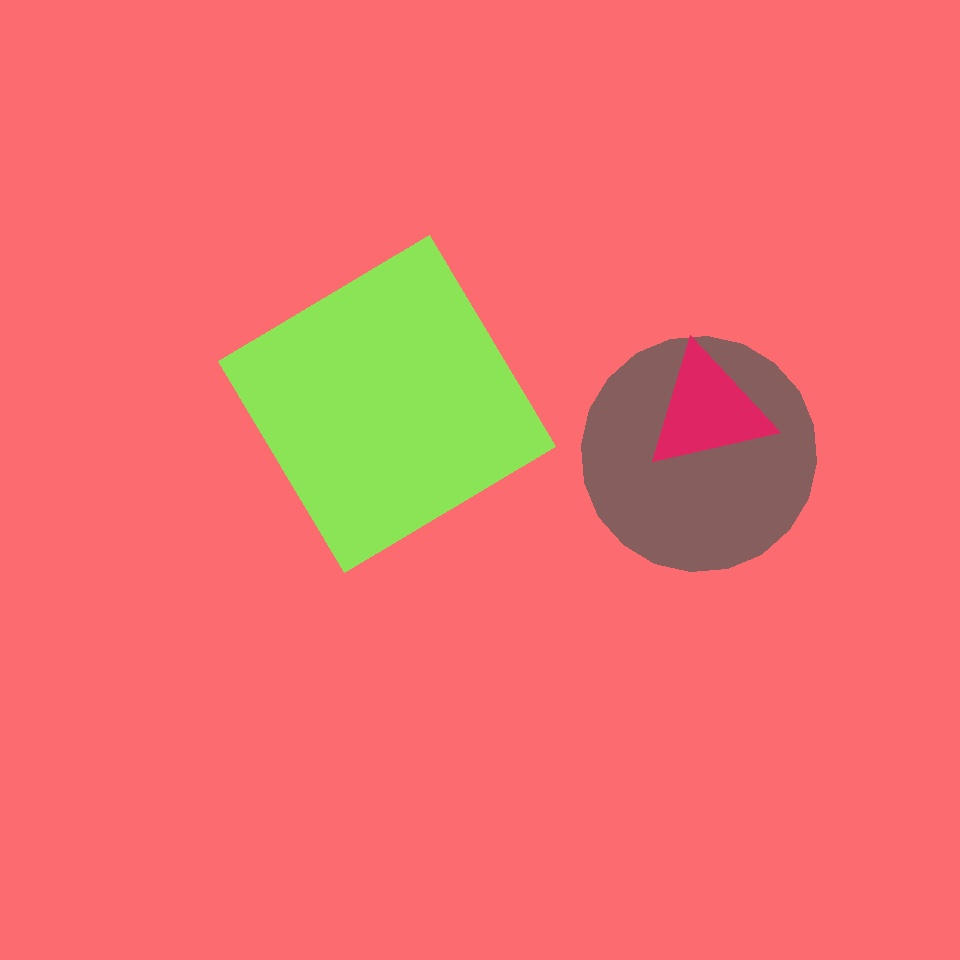circle: (549, 639, 818, 893), (644, 347, 772, 473), (300, 839, 387, 931)
square: (219, 236, 556, 572), (550, 195, 875, 519), (320, 625, 429, 734)
triangle: (582, 336, 816, 572)
